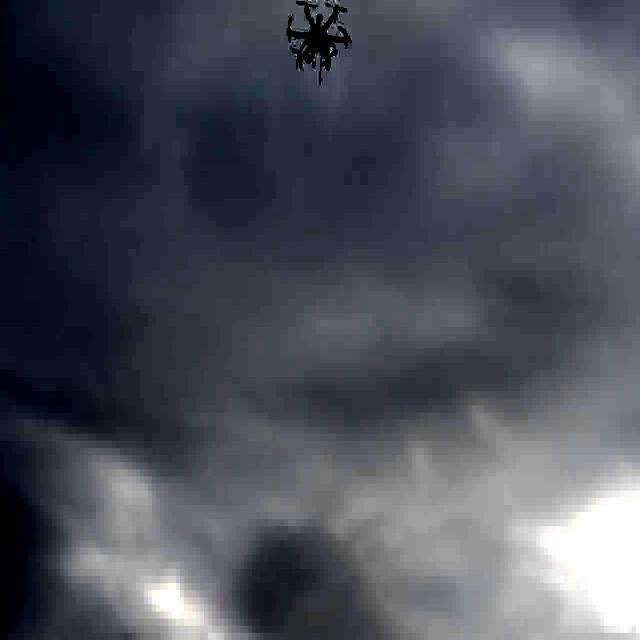drone: (279, 0, 353, 81)
